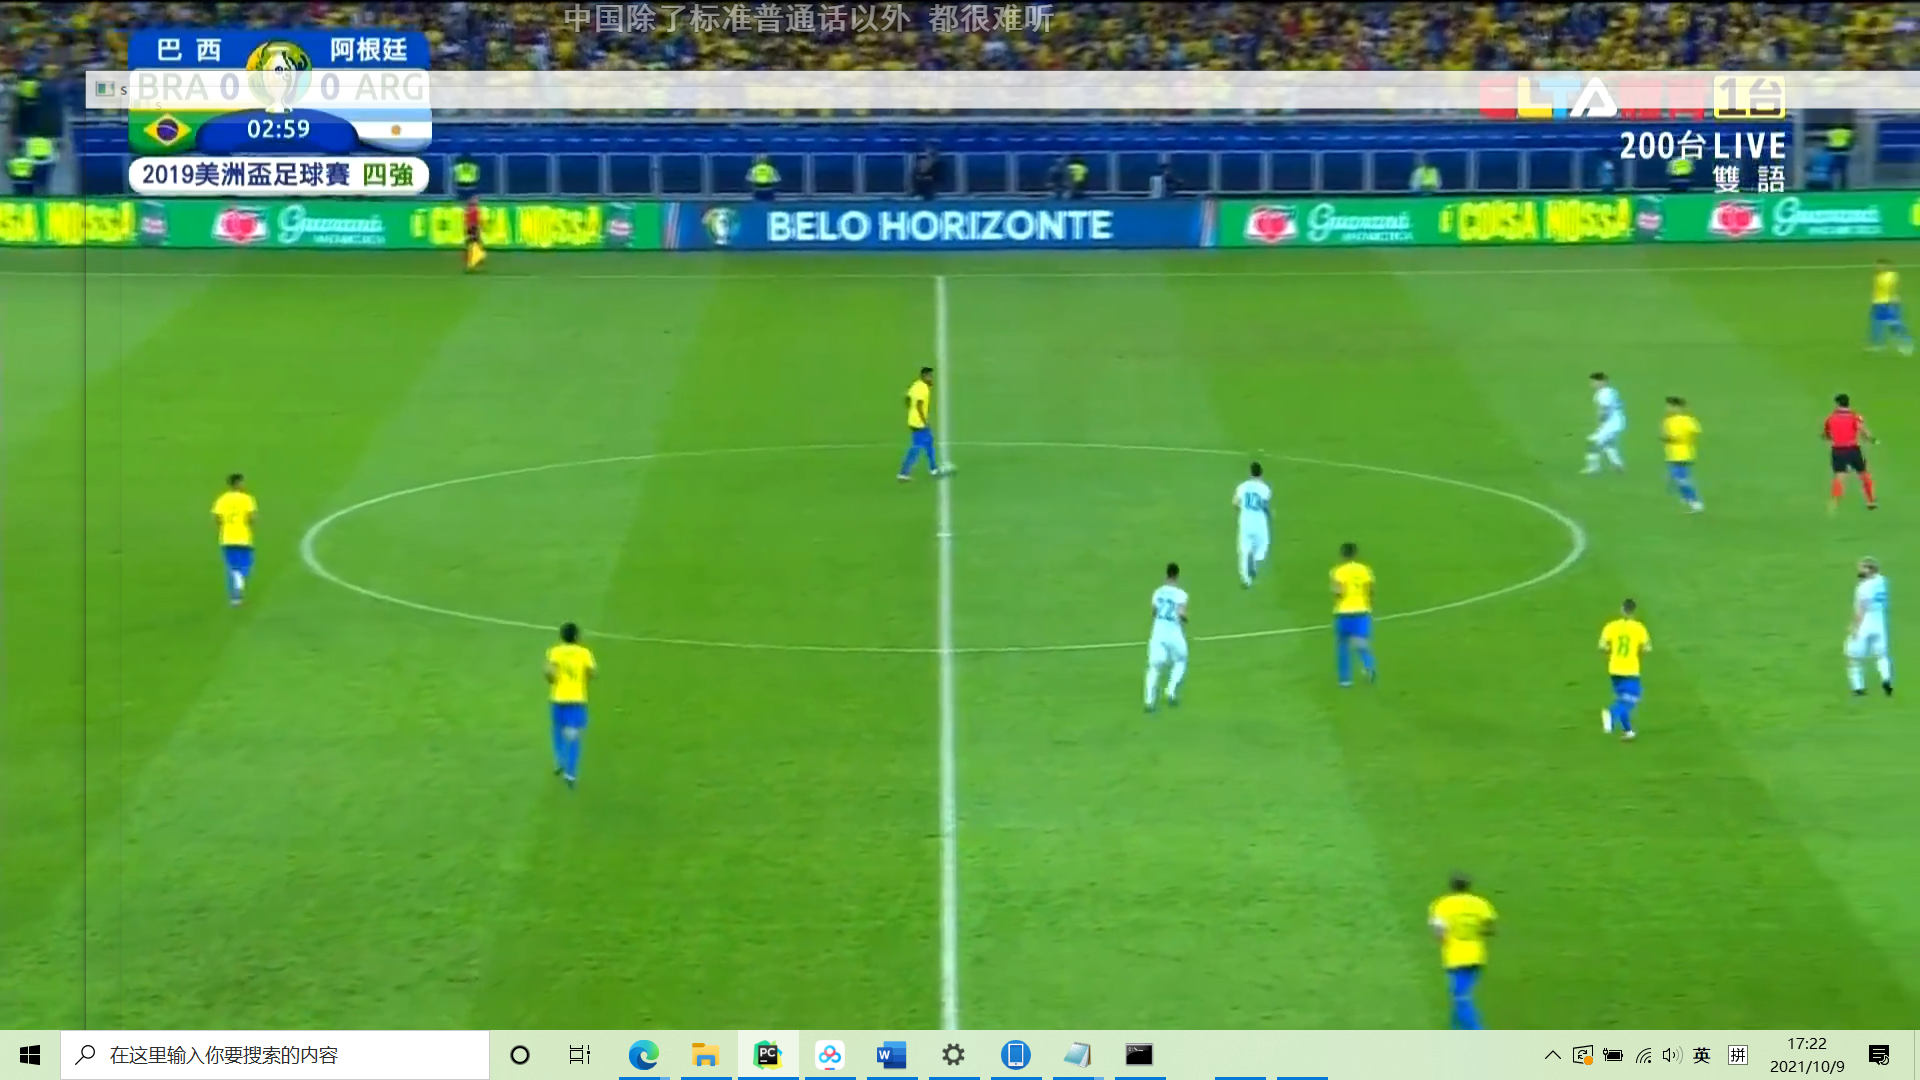ft: (938, 459, 959, 479)
